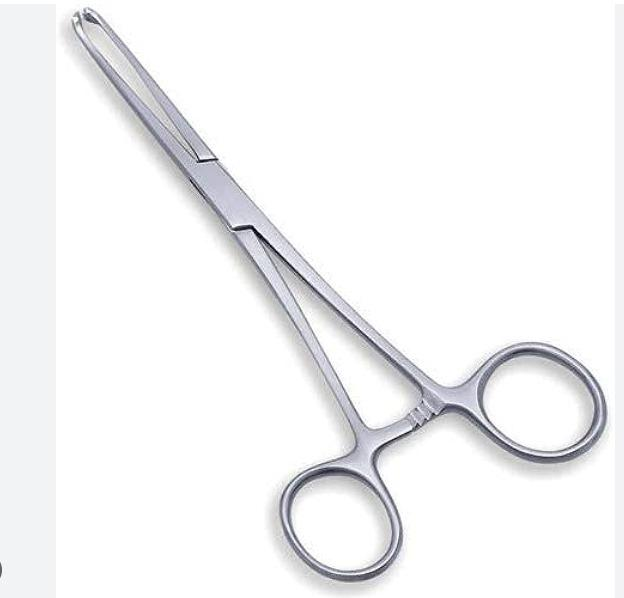Allis Forceps: (58, 2, 609, 586)
